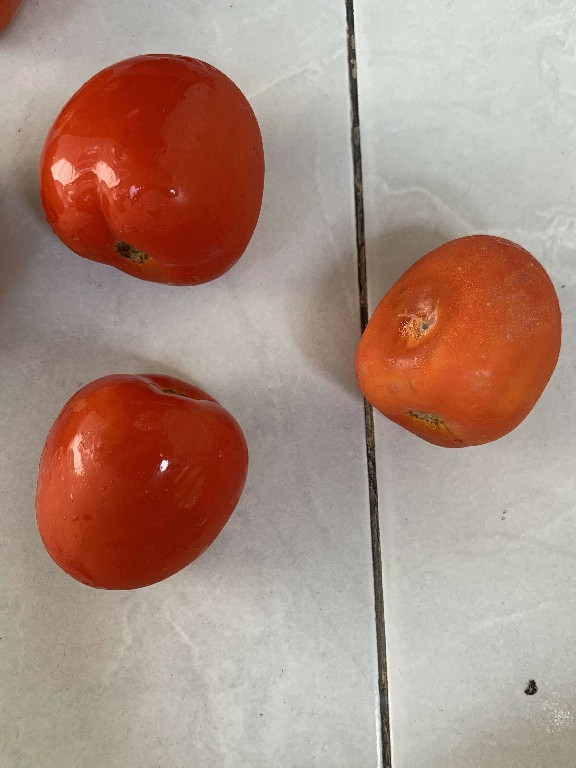NG: (348, 224, 571, 452)
OK: (27, 47, 278, 294), (25, 368, 259, 595)
